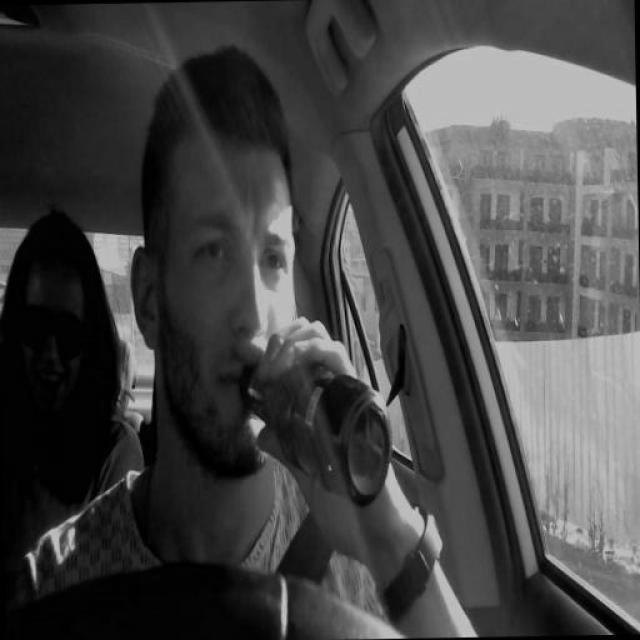Drinking: (233, 350, 395, 509)
